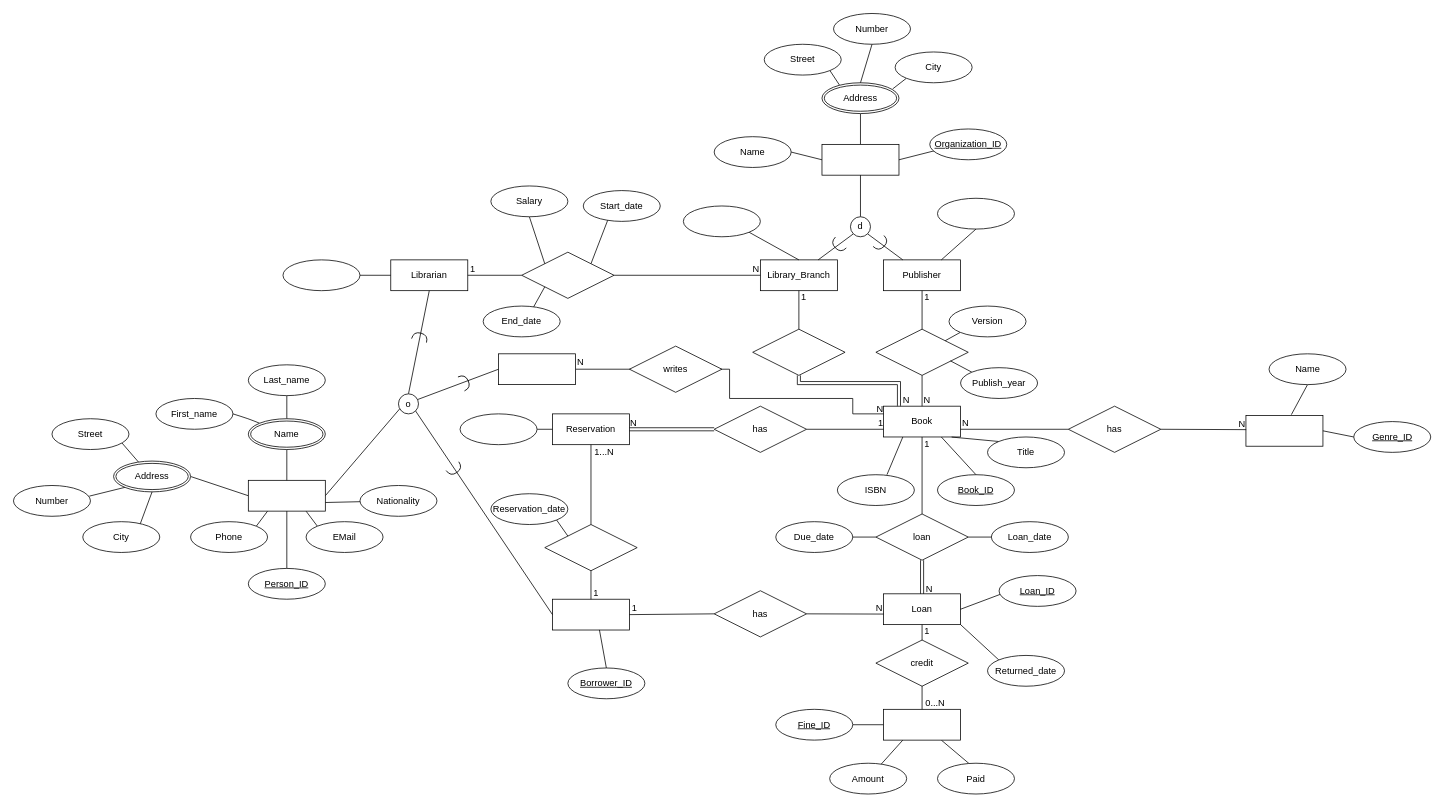
Image size: 1445x808. Some labels were removed from this diagram. The shapes that lost their labels are listed below. From the top down, each one's centre as x and y in pixels, then its label:
At point (860, 159): "Organization".
At point (721, 221): "Branch_ID".
At point (975, 213): "Publisher_ID".
At point (321, 275): "Librarian_ID".
At point (567, 274): "work".
At point (537, 369): "Author".
At point (798, 351): "store".
At point (921, 351): "publish".
At point (498, 429): "Reservation_ID".
At point (1284, 430): "Genre".
At point (286, 495): "Person".
At point (590, 547): "place".
At point (590, 614): "Borrower".
At point (922, 724): "Fine".
